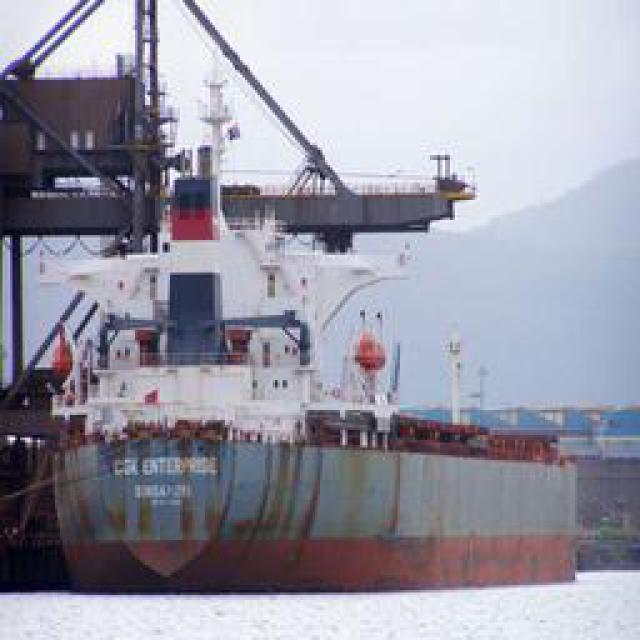Ship: (35, 350, 575, 590)
